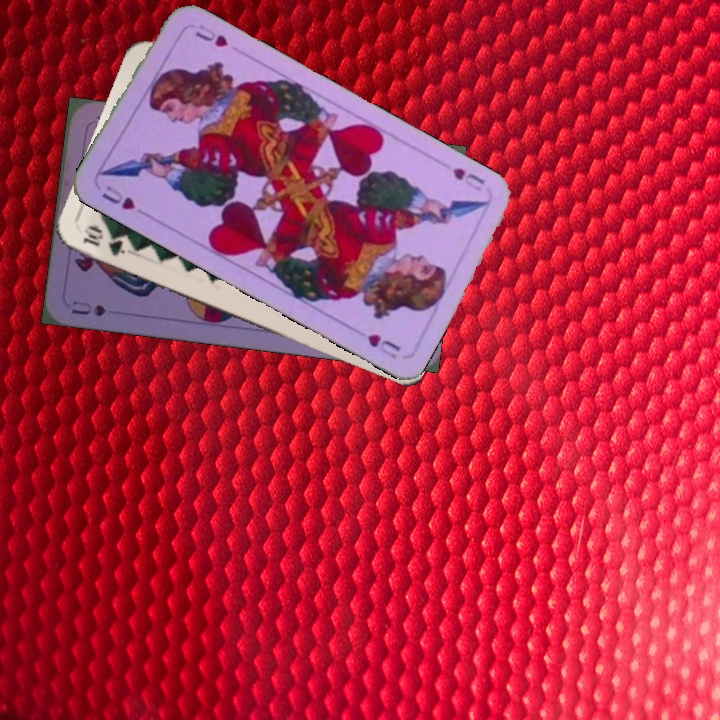G10: (78, 223, 134, 259)
HU: (98, 181, 139, 213), (448, 163, 488, 194)
SU: (67, 297, 108, 319)
